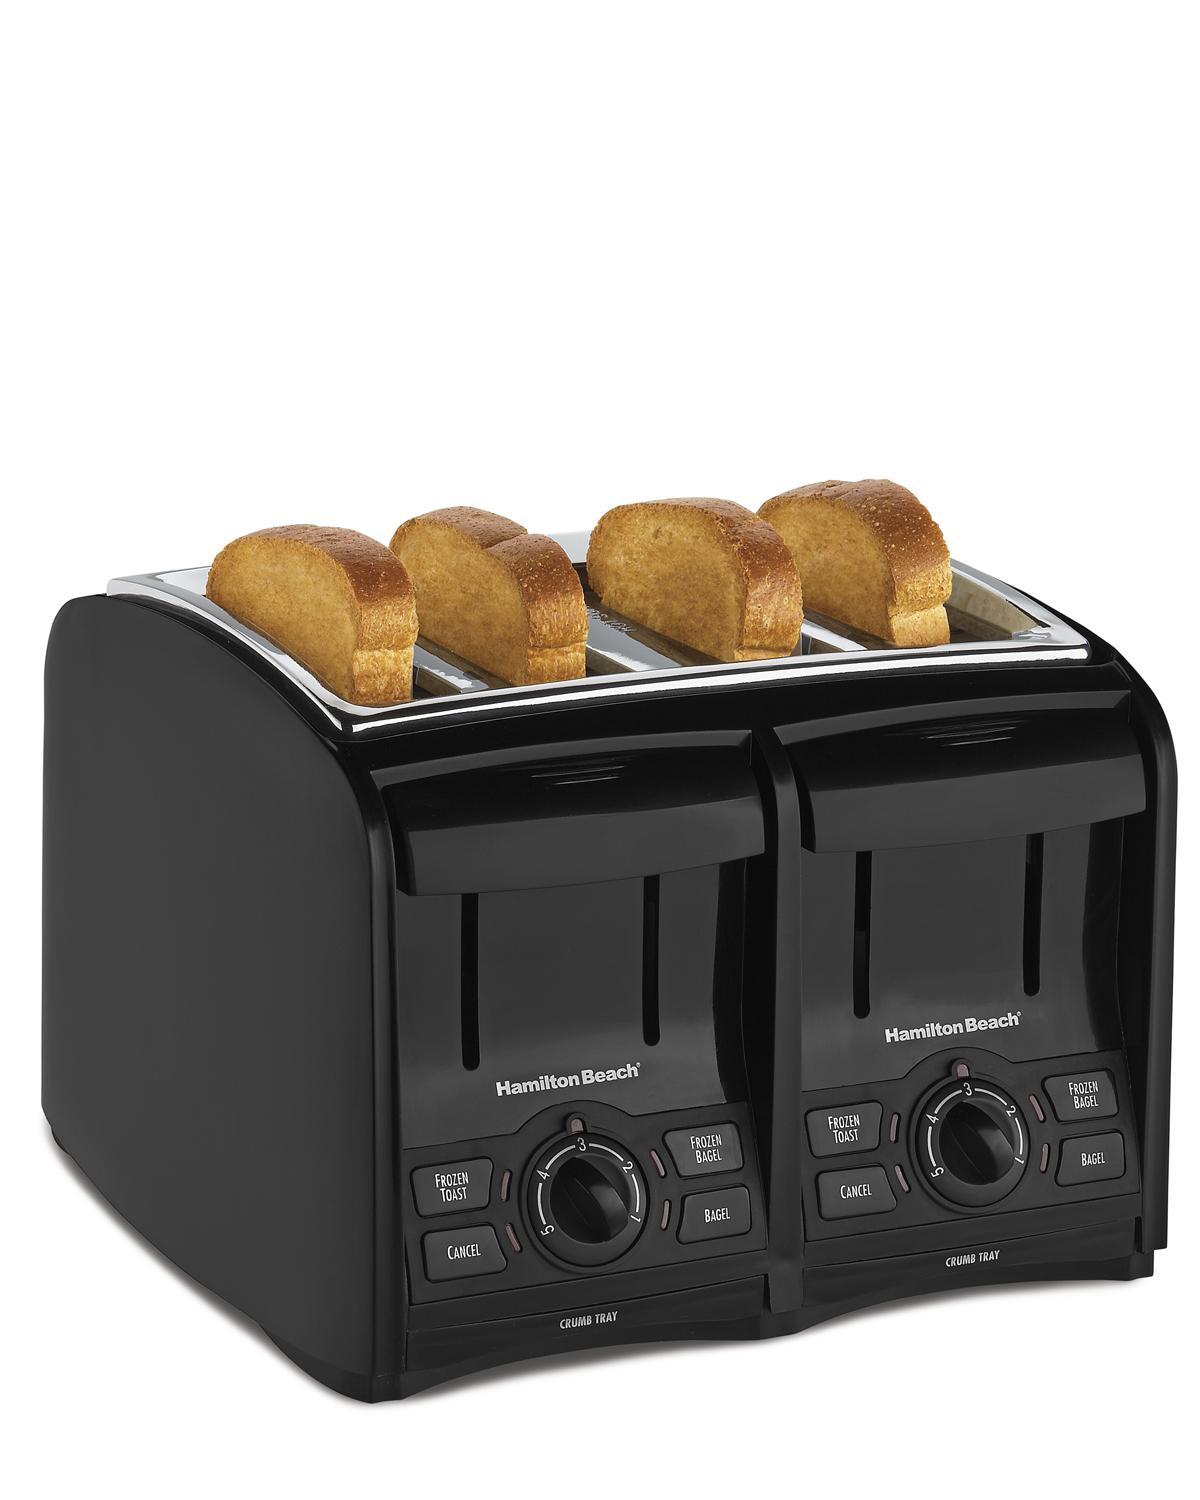slice of bread: (198, 467, 1005, 704)
